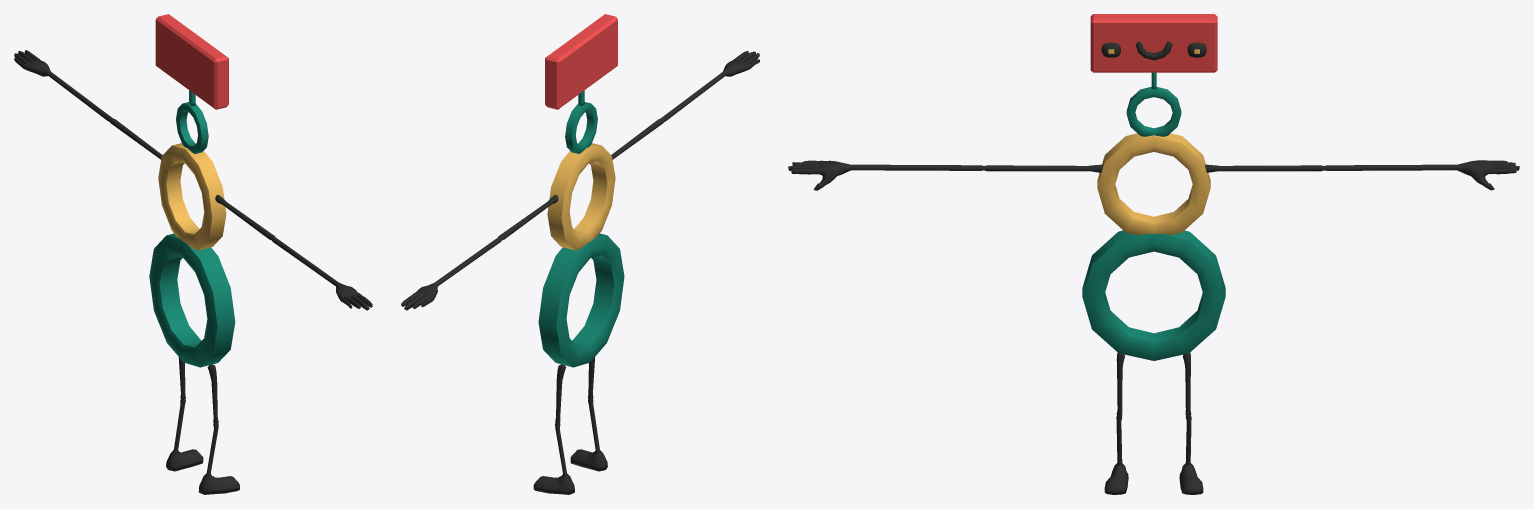
The model's file is scene_CeoKkzv95Y.glb.
The picture shows the model from 3 angles, left to right: view 1: azimuth 30°, elevation 25°; view 2: azimuth 150°, elevation 25°; view 3: azimuth 270°, elevation 25°; orthographic projection. The views are drawn at different scales.
Parts seen in each view (by area): view 1: _100Avatars_173_CircleBoi; view 2: _100Avatars_173_CircleBoi; view 3: _100Avatars_173_CircleBoi.
Boxes of the visible parts, x1=… form: _100Avatars_173_CircleBoi: x1=14, y1=14, x2=372, y2=494; _100Avatars_173_CircleBoi: x1=401, y1=14, x2=759, y2=494; _100Avatars_173_CircleBoi: x1=788, y1=14, x2=1519, y2=494.
Size of the model in its own units: 0.3188 by 3.41 by 4.87.
1 material, 1 textured.
